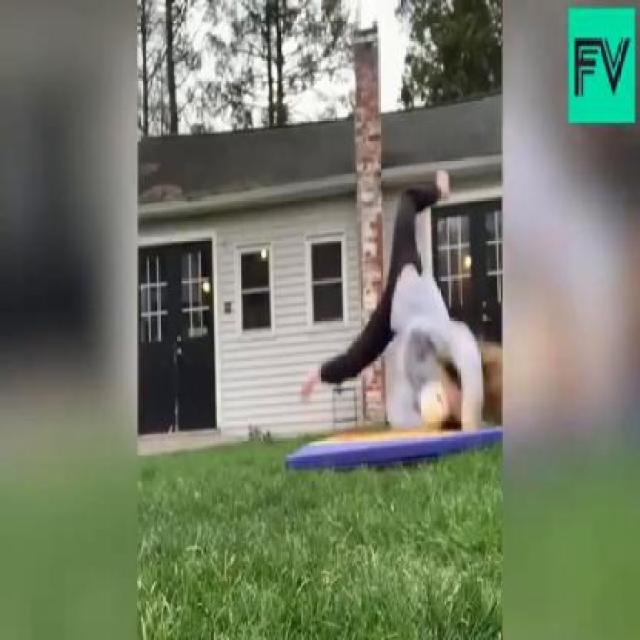fall: (302, 163, 486, 440)
